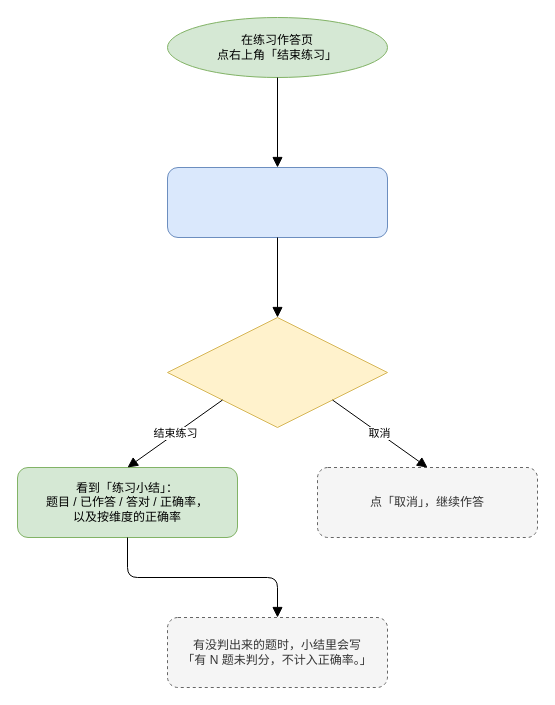
Some shapes in this 555 by 705 pixel diagram are drawn without their labels. Here are the shapes that lost their labels. From the top down, the centre of each, then its label:
At point (277, 202): "弹出确认「结束这次练习？」 并告诉你还有几题没答".
At point (277, 372): "点「结束练习」还是「取消」？".
